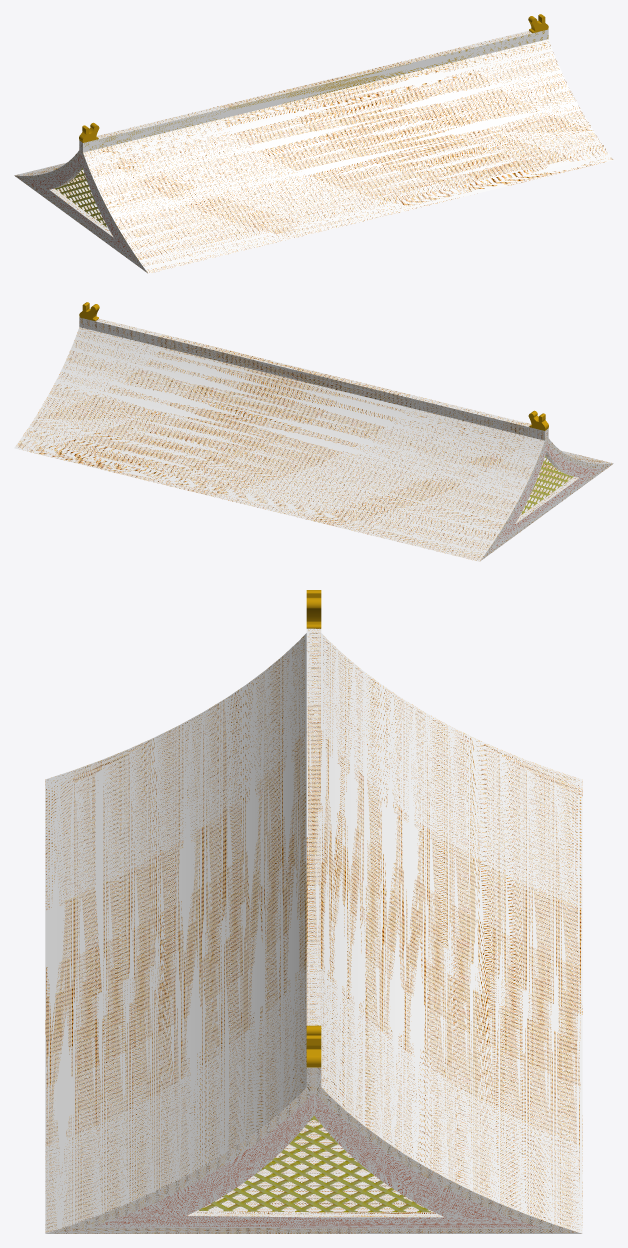
The model's file is forbidden_roof_upper.dae.
The picture shows the model from 3 angles, top to bottom: view 1: azimuth 30°, elevation 25°; view 2: azimuth 150°, elevation 25°; view 3: azimuth 270°, elevation 25°; orthographic projection. The views are drawn at different scales.
Visible parts, largest first — view 1: roof03_1 (×5); view 2: roof03_1 (×4); view 3: roof03_1 (×4).
Part boxes in pixels (left/top/right/bottom): roof03_1 (×5): left=14, top=29, right=613, bottom=273; roof03_1 (×4): left=14, top=317, right=613, bottom=561; roof03_1 (×4): left=45, top=628, right=582, bottom=1233.
Size of the model in its own units: 1322 by 661 by 263.
5 materials, 2 textured.
